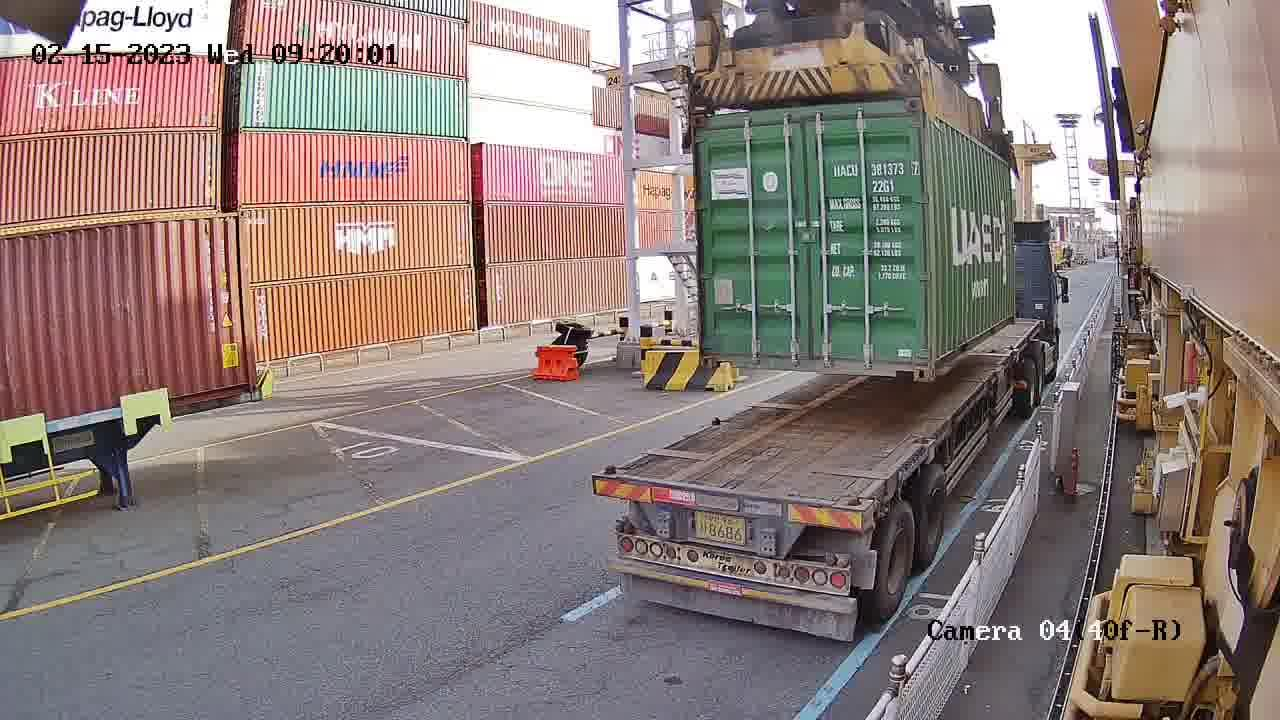Chassis: (590, 473, 866, 559)
Cone: (594, 460, 622, 497), (846, 491, 870, 529)
Hole_L: (698, 329, 740, 370)
Hole_R: (887, 336, 933, 381)
Tire: (875, 502, 915, 612), (917, 467, 949, 562)
